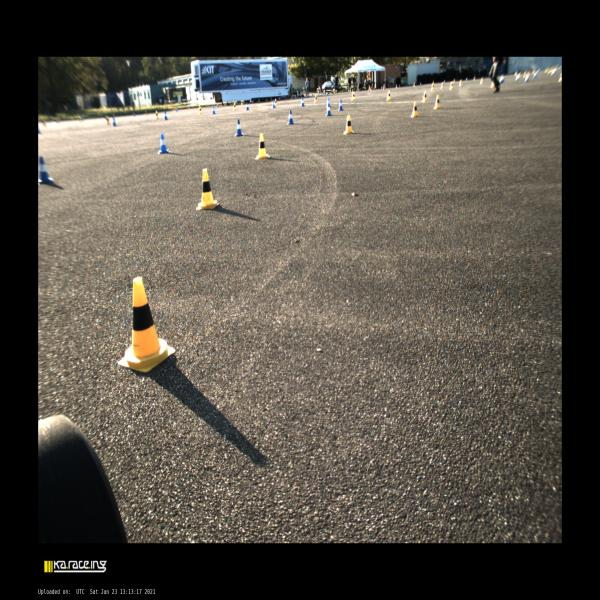blue_cone: (38, 155, 54, 184), (157, 133, 171, 154), (234, 118, 245, 137), (286, 109, 296, 125), (326, 102, 332, 116), (338, 98, 344, 110), (300, 97, 305, 107), (326, 97, 331, 107), (112, 117, 117, 126), (499, 74, 504, 83), (271, 100, 276, 108), (524, 74, 529, 82), (38, 124, 42, 134), (164, 111, 168, 120), (245, 103, 250, 110), (551, 68, 556, 75), (212, 106, 216, 114), (515, 74, 519, 81), (533, 72, 537, 78), (81, 116, 84, 122), (133, 112, 136, 116), (347, 89, 350, 93), (465, 78, 468, 81), (381, 86, 383, 90), (216, 103, 218, 107), (176, 108, 178, 112), (326, 91, 328, 95), (252, 100, 254, 103), (420, 82, 421, 86), (279, 97, 280, 100), (399, 84, 400, 87)
large_orange_cone: (368, 85, 370, 91), (383, 84, 385, 90)
yellow_cone: (118, 278, 175, 372), (196, 168, 219, 210), (254, 133, 270, 160), (344, 114, 354, 134), (411, 101, 419, 118), (434, 95, 441, 109), (422, 90, 428, 102), (386, 91, 392, 100), (106, 115, 111, 125), (449, 81, 454, 90), (42, 119, 47, 127), (558, 73, 562, 82), (155, 110, 159, 119), (351, 92, 355, 100), (430, 82, 434, 90), (458, 79, 462, 87), (198, 106, 202, 114), (314, 95, 318, 102), (274, 99, 278, 106), (233, 102, 236, 110), (78, 116, 82, 122), (548, 67, 552, 73), (441, 82, 444, 89), (480, 77, 483, 84), (523, 72, 526, 78), (145, 110, 147, 116), (473, 76, 475, 81), (453, 78, 455, 83), (413, 82, 415, 86), (241, 101, 243, 105), (290, 96, 292, 100), (370, 87, 372, 91), (312, 94, 314, 97), (396, 84, 397, 89)
